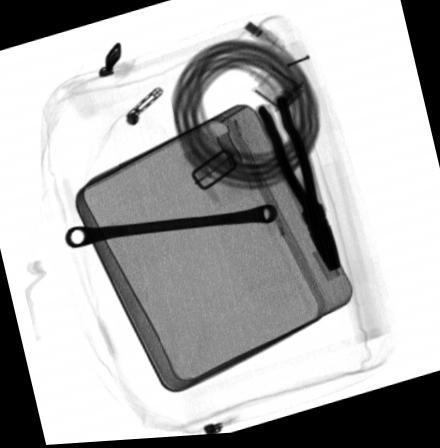Pliers: (254, 97, 342, 277)
Wrench: (63, 206, 278, 250)
